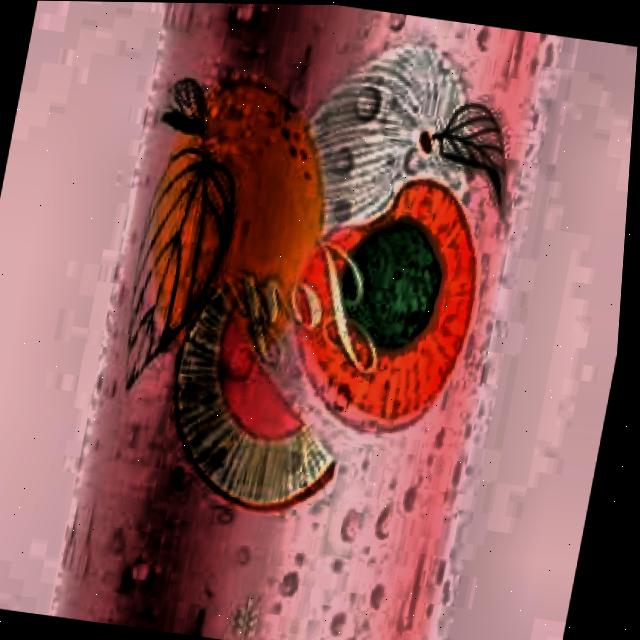metal: (44, 1, 563, 640)
